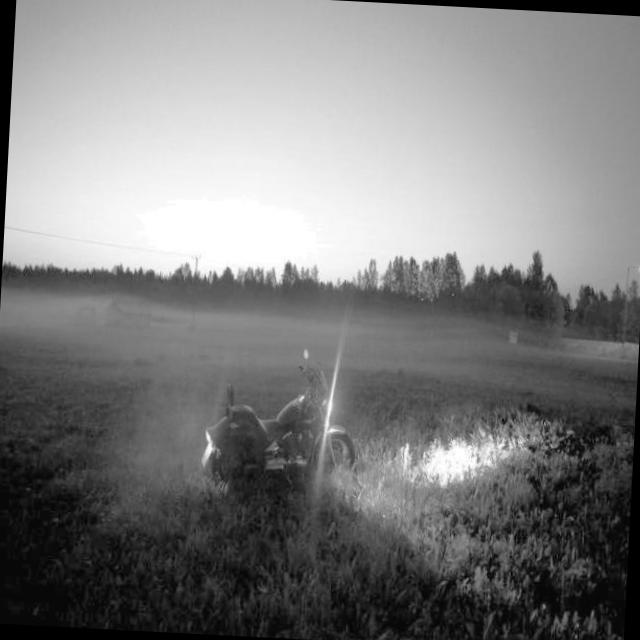Motorcycle: (183, 330, 351, 507)
